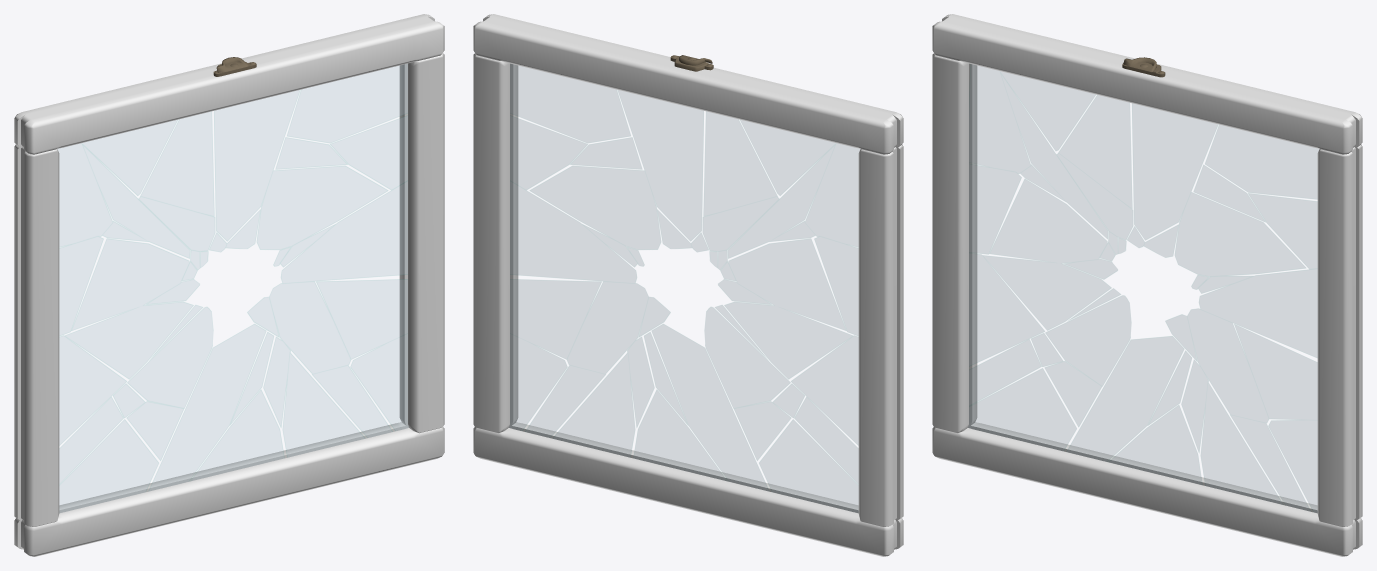
File: GlassBrokenWindow.glb
The picture shows the model from 3 angles, left to right: view 1: azimuth 30°, elevation 25°; view 2: azimuth 150°, elevation 25°; view 3: azimuth 330°, elevation 25°; orthographic projection.
Visible parts, largest first — view 1: WindowsGlass, WindowFrame, WindowClasp; view 2: WindowsGlass, WindowFrame, WindowClasp; view 3: WindowsGlass, WindowFrame, WindowClasp.
Part boxes in pixels (x1,y1,x2,y2): WindowsGlass: [58, 64, 408, 512]; WindowFrame: [14, 14, 444, 556]; WindowClasp: [213, 57, 256, 76]; WindowsGlass: [509, 64, 859, 512]; WindowFrame: [473, 14, 903, 556]; WindowClasp: [670, 55, 713, 71]; WindowsGlass: [968, 64, 1318, 512]; WindowFrame: [932, 14, 1362, 556]; WindowClasp: [1122, 57, 1165, 77].
Bounding box in the file's own units: 0.508 × 0.5165 × 0.0381.
Materials: 3 (1 with a texture image).
